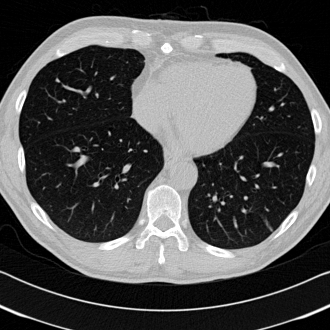nodule: (55, 78, 59, 82)
